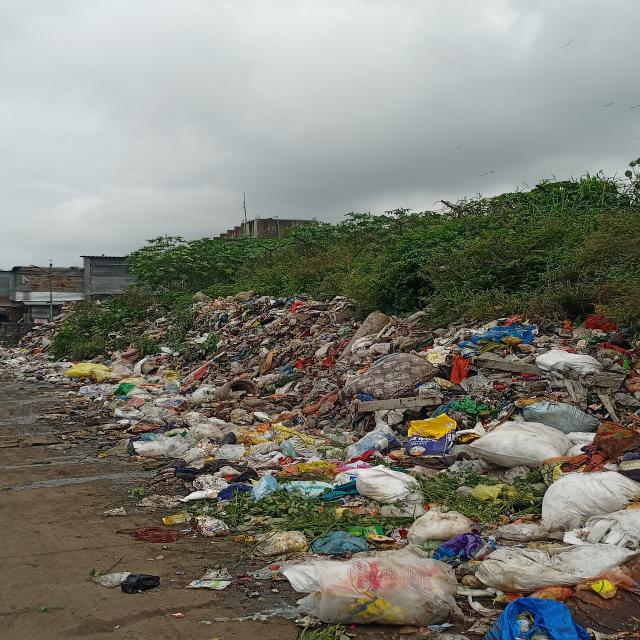garbage: (277, 307, 640, 637), (5, 294, 278, 520)
